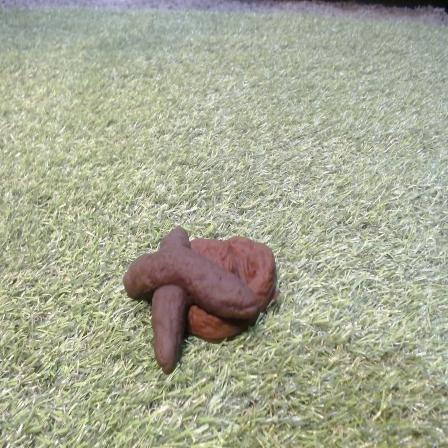dog-poop: (123, 225, 275, 363)
